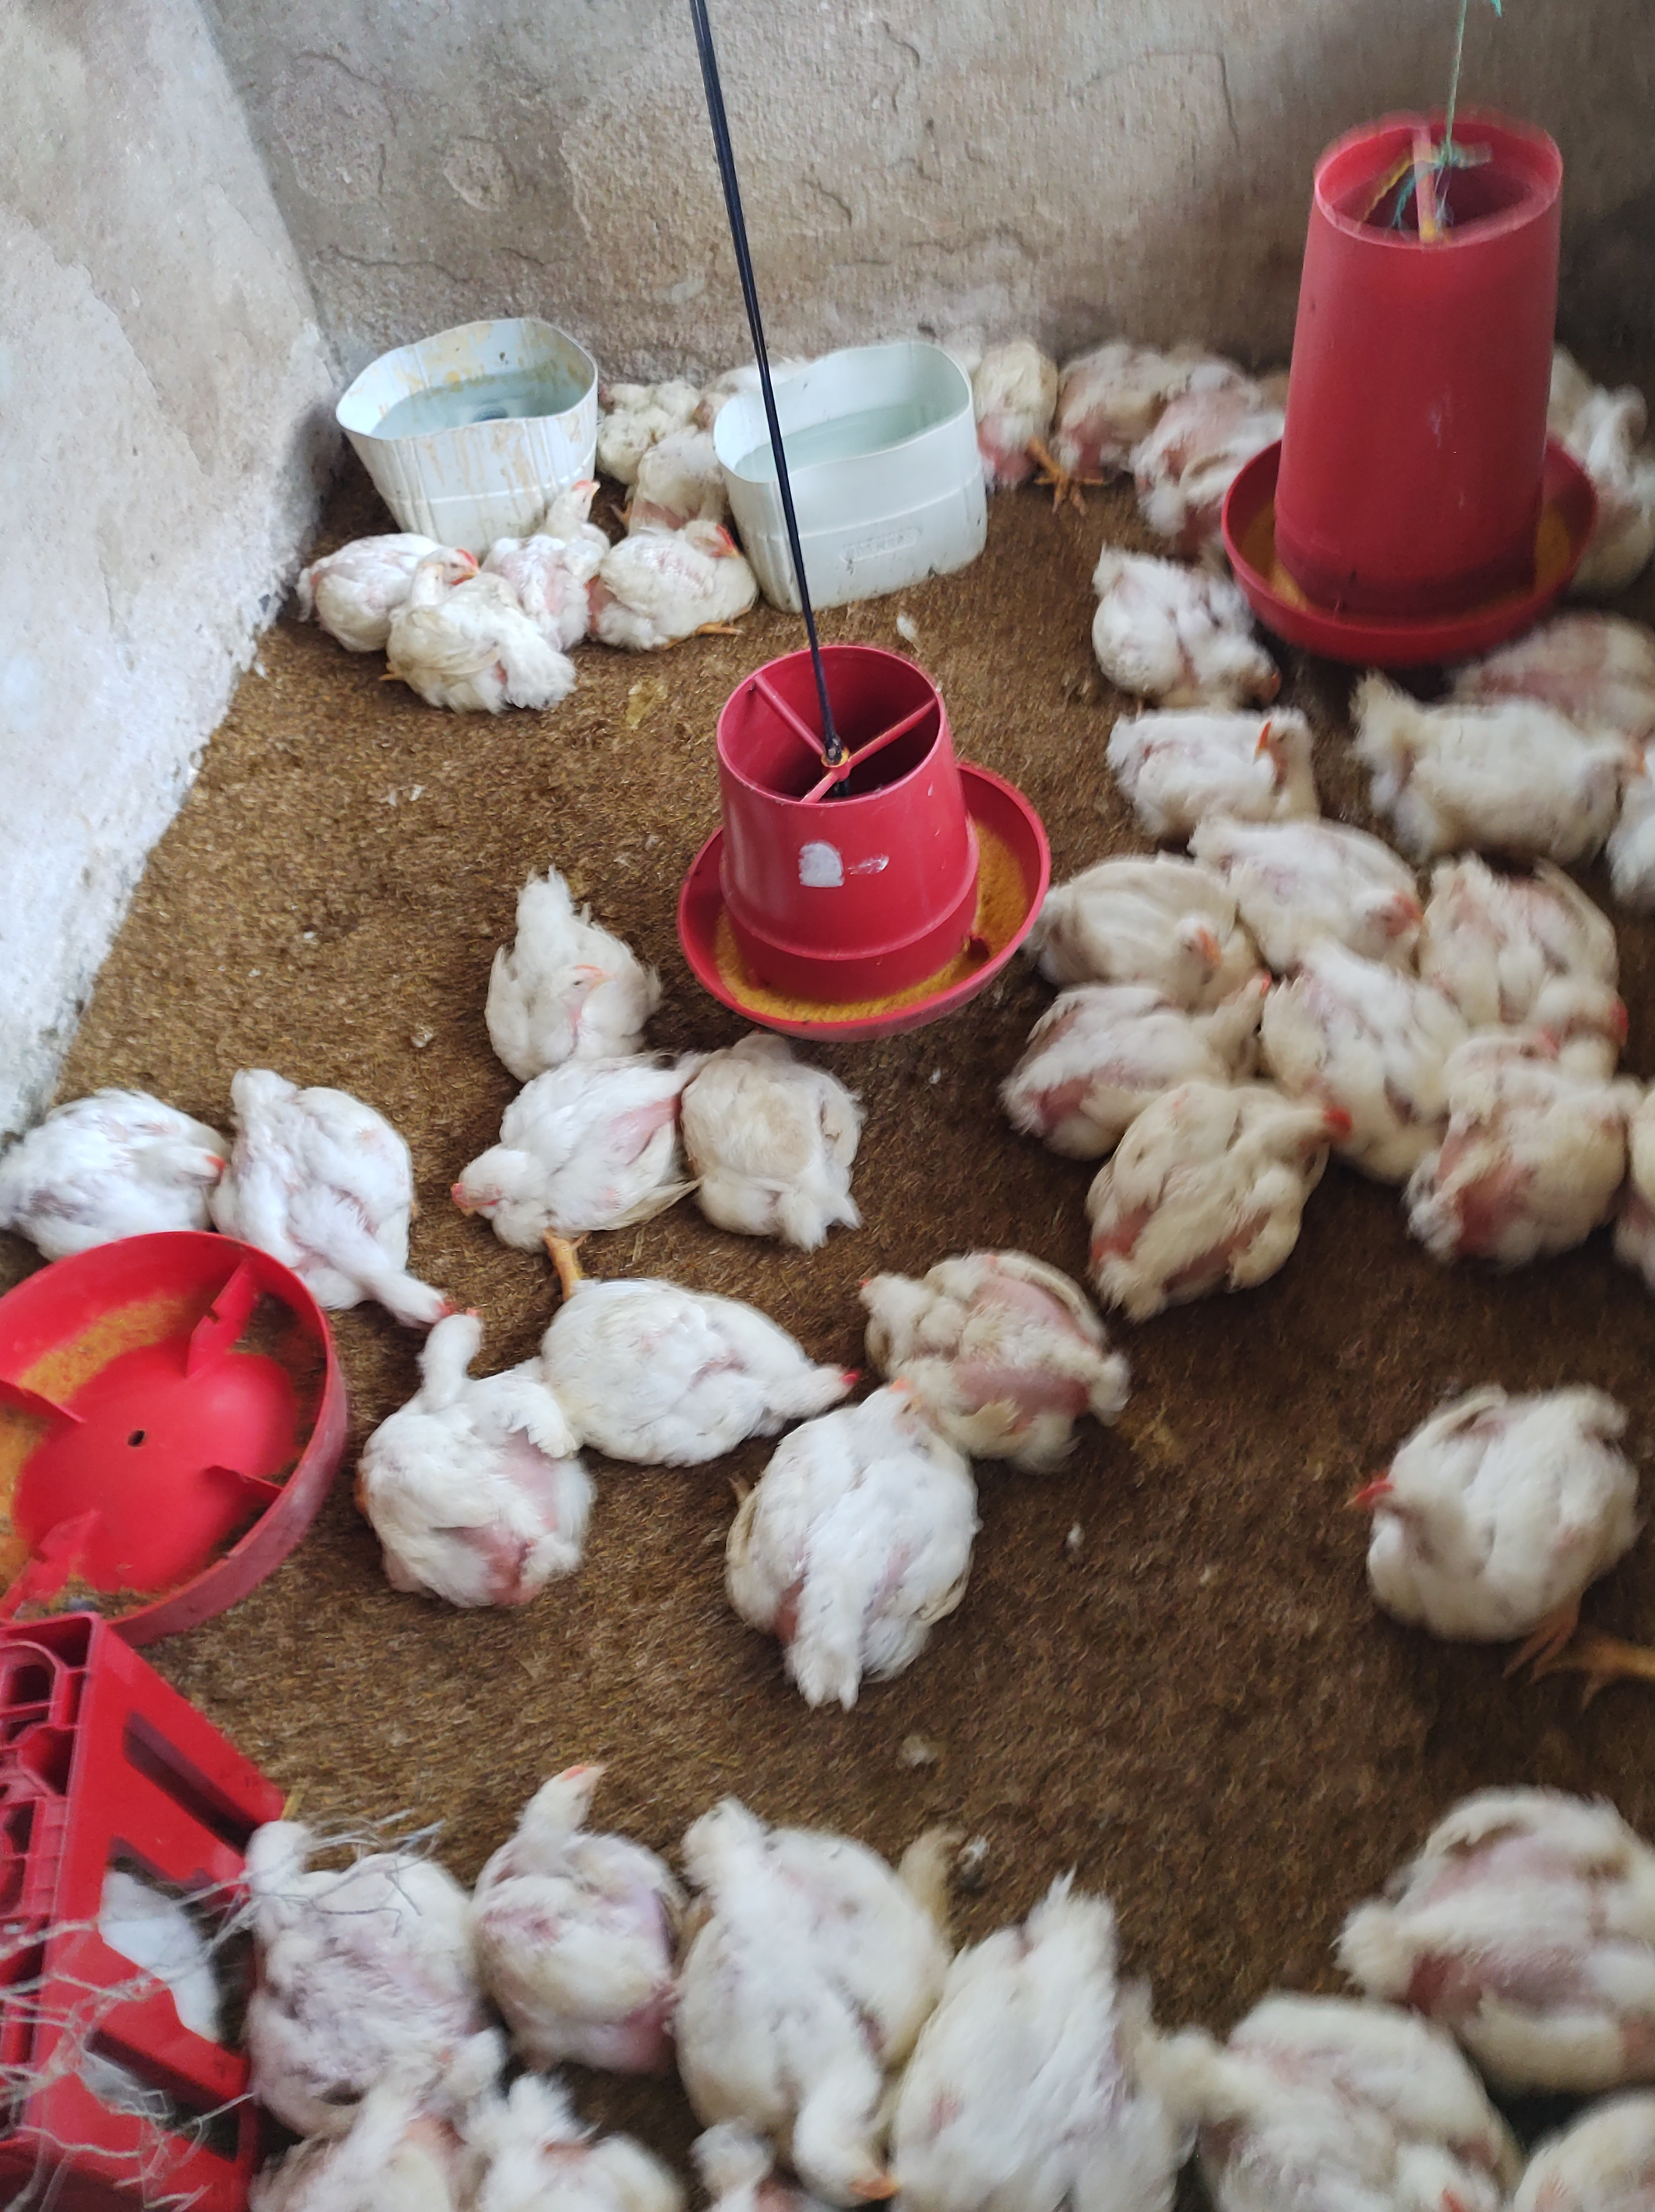Pollos: (659, 1809, 901, 2207), (1328, 1370, 1643, 1664), (930, 1906, 1205, 2212), (727, 1379, 991, 1666), (1392, 1786, 1655, 2059), (351, 1301, 584, 1595), (223, 1056, 464, 1329), (219, 1812, 487, 2052), (1210, 1989, 1495, 2212), (854, 1240, 1133, 1462), (518, 1736, 694, 2085), (1100, 1089, 1366, 1316), (544, 1280, 857, 1462), (449, 1054, 678, 1261), (1403, 1068, 1641, 1261), (1370, 694, 1639, 864), (466, 856, 662, 1059), (9, 1089, 240, 1261), (688, 1031, 869, 1242), (1087, 541, 1274, 708), (410, 556, 575, 725), (1121, 687, 1318, 824), (586, 515, 777, 652), (1231, 835, 1429, 956), (1055, 301, 1168, 508), (1064, 974, 1281, 1057), (965, 316, 1053, 501), (511, 452, 621, 586), (1509, 934, 1655, 1028), (315, 2075, 450, 2174), (591, 341, 695, 450), (313, 527, 478, 593), (1128, 882, 1234, 977), (1439, 1009, 1568, 1087)
